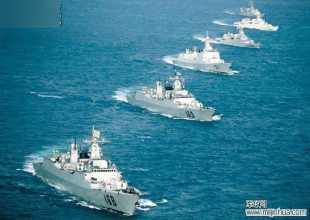warship: (30, 138, 159, 214), (125, 72, 220, 127), (173, 32, 238, 79), (205, 19, 267, 50), (238, 18, 285, 33), (238, 1, 265, 18)
